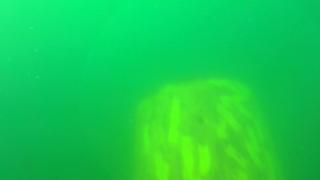pipe: (130, 76, 282, 179)
